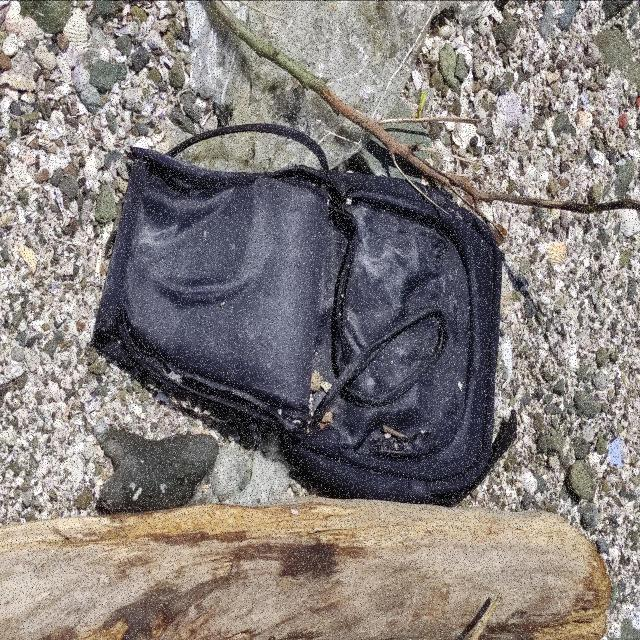textile_waste: (90, 145, 505, 507)
